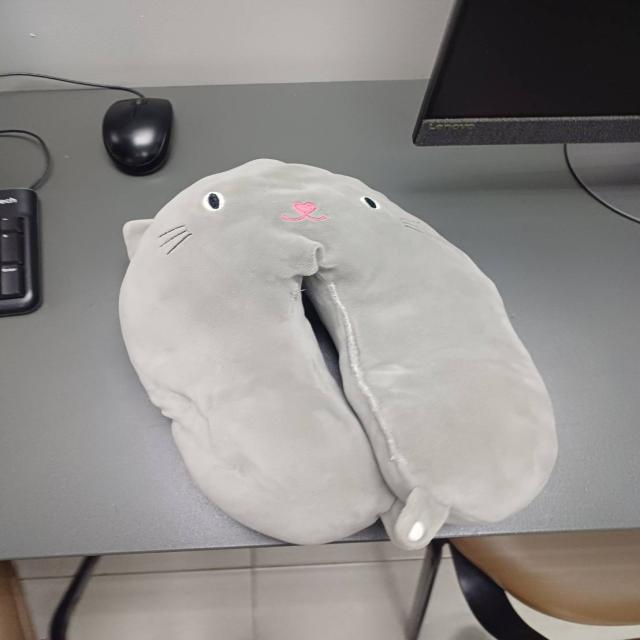pillow: (106, 150, 571, 562)
